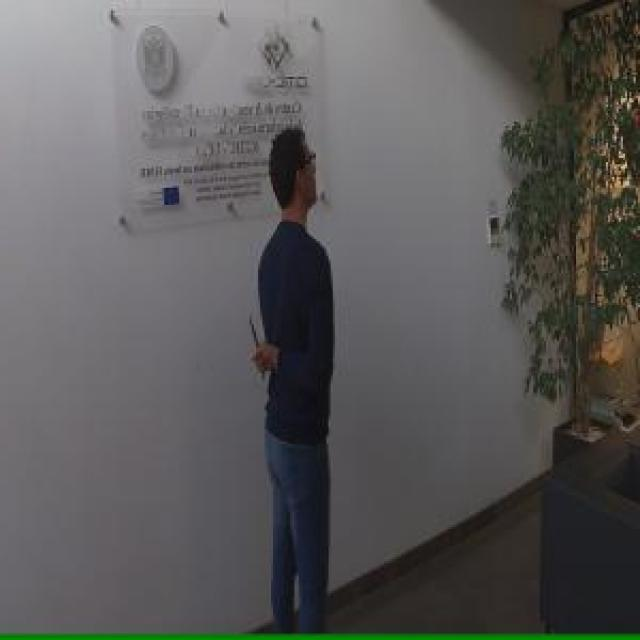knife: (247, 307, 269, 384)
